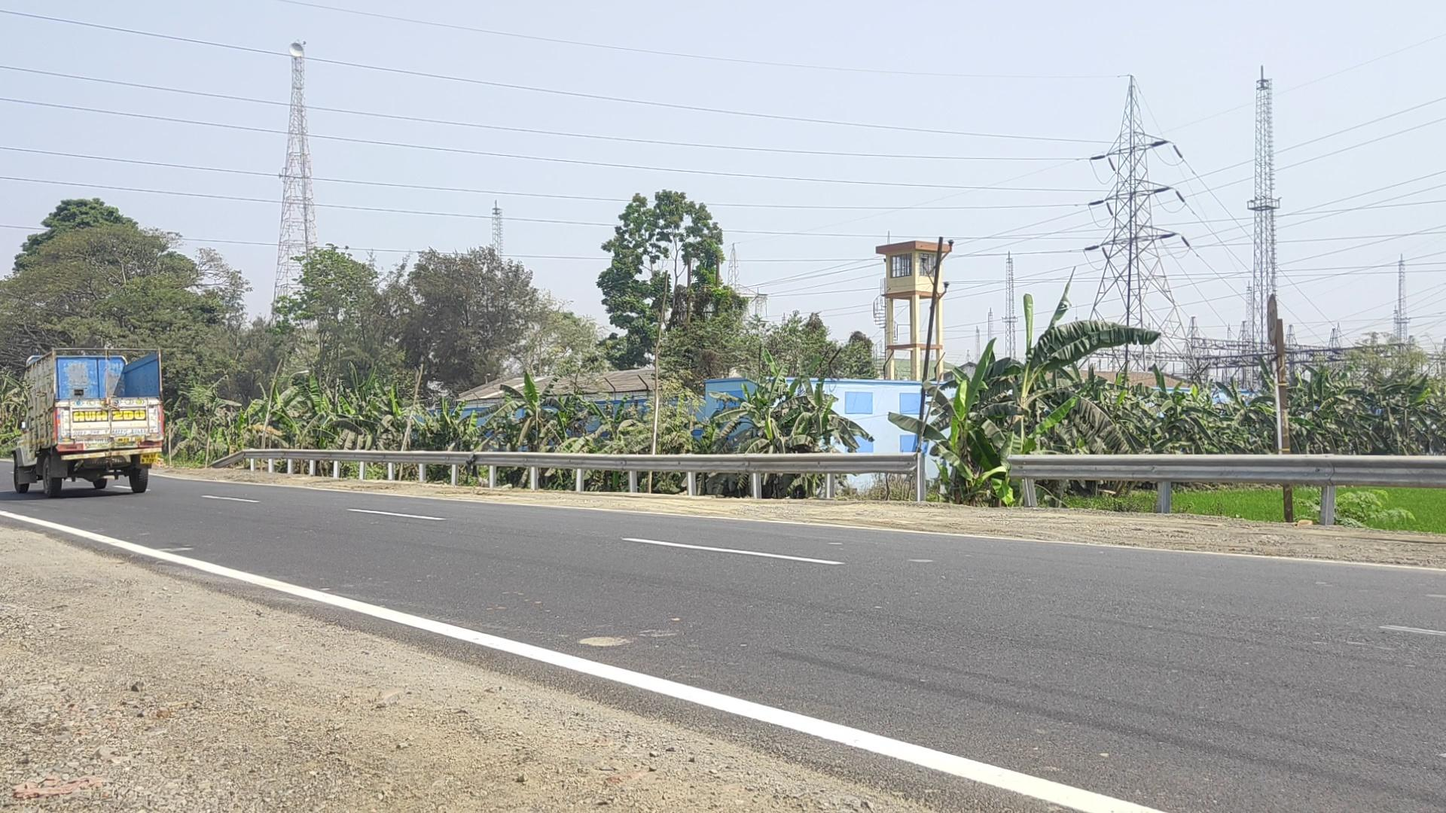van: (11, 346, 163, 499)
